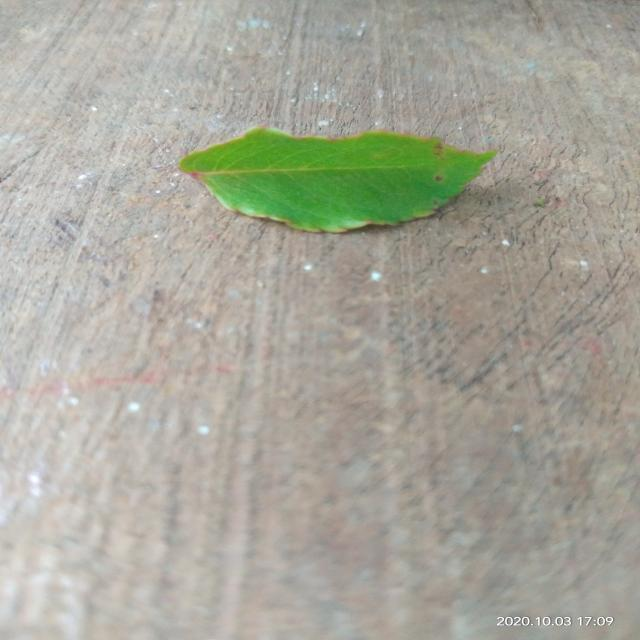rose: (180, 128, 497, 232)
